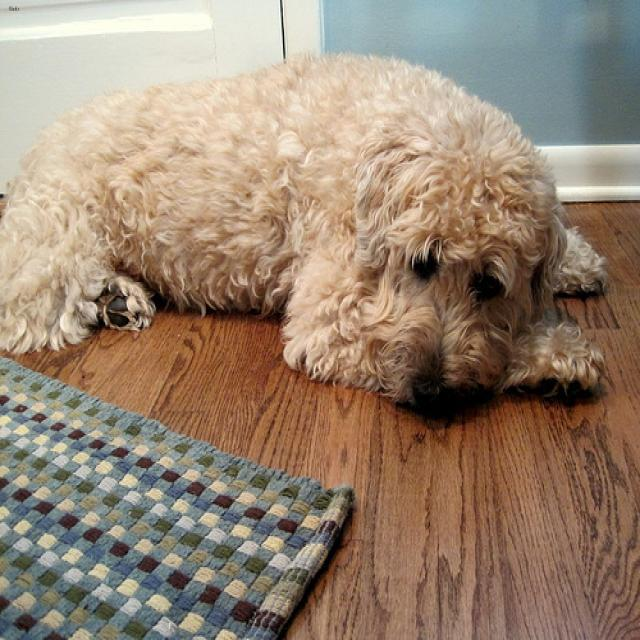dog-wheaten_terrier: (1, 46, 616, 428)
